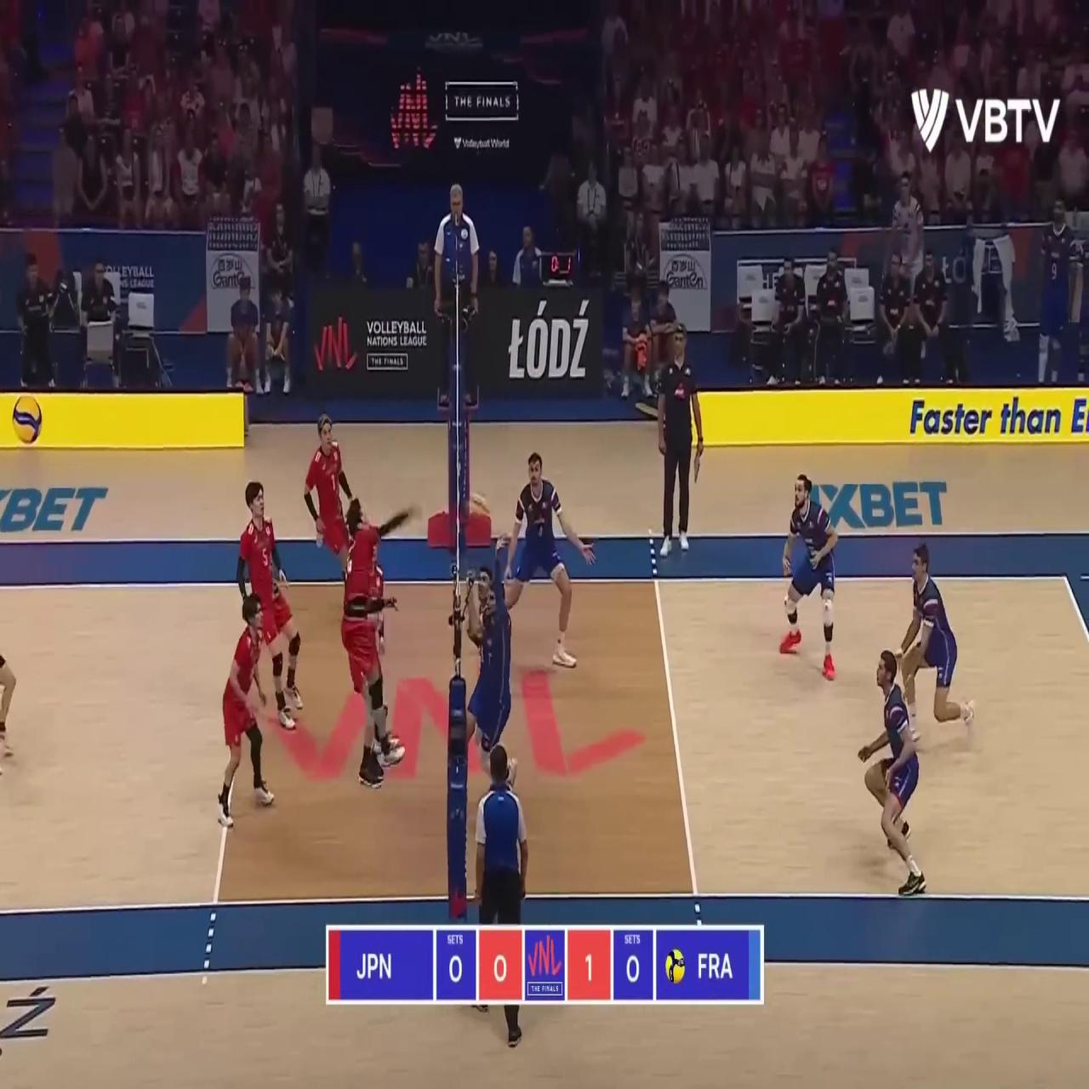ball: (471, 491, 489, 516)
